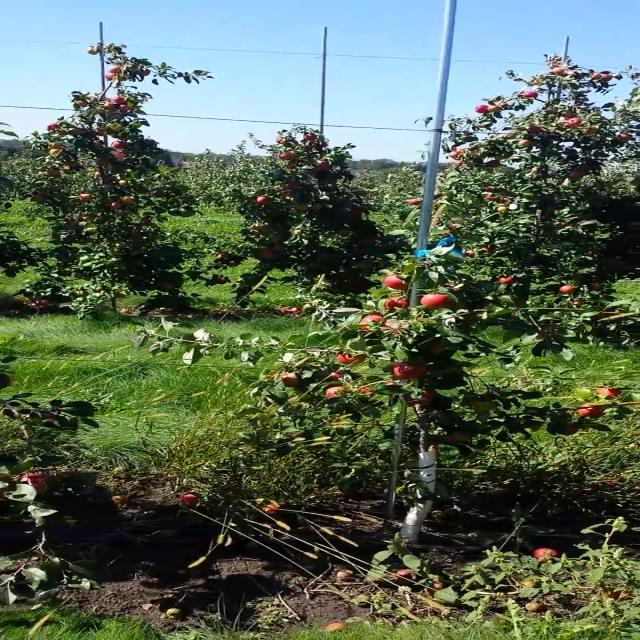apple: (391, 362, 433, 378), (419, 292, 454, 310), (405, 390, 434, 408), (383, 274, 407, 292), (358, 314, 382, 330), (579, 403, 605, 417), (336, 352, 365, 364), (383, 296, 407, 310), (280, 372, 300, 388), (19, 474, 45, 486), (559, 422, 579, 436), (596, 388, 623, 398), (324, 386, 342, 398), (452, 430, 470, 442), (428, 341, 442, 355), (382, 323, 402, 330), (358, 385, 372, 393), (1, 374, 10, 386), (329, 372, 341, 378), (384, 380, 395, 386)
